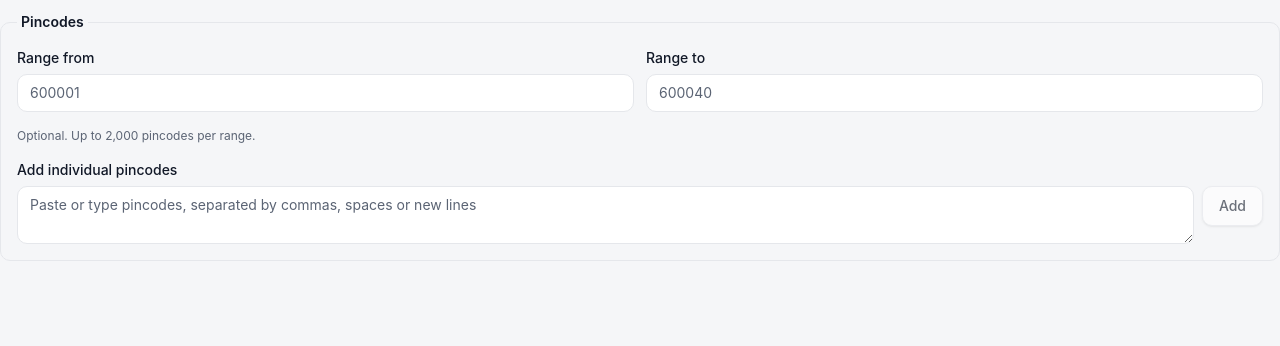
Test: pincode editor › pasted pincodes become chips; invalid ones are reported; one owned by another zone is flagged with its name
The width and height of the screenshot is (1280, 346).
Type "600001, 600002 600003 12ab" into the text box labelled "Add individual pincodes".
click(605, 215); type("600001, 600002 600003 12ab")  # box [17,186,1194,244]
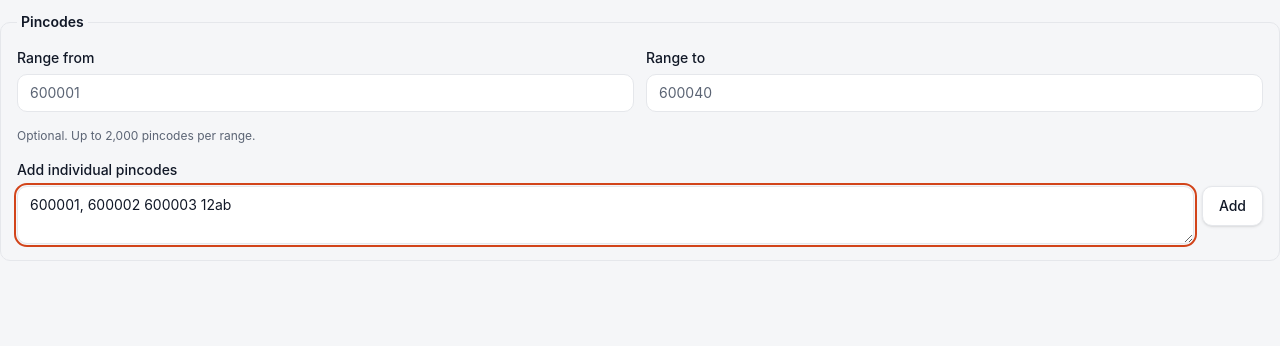
Click the button "Add".
click(1232, 206)  # box [1202,186,1263,226]
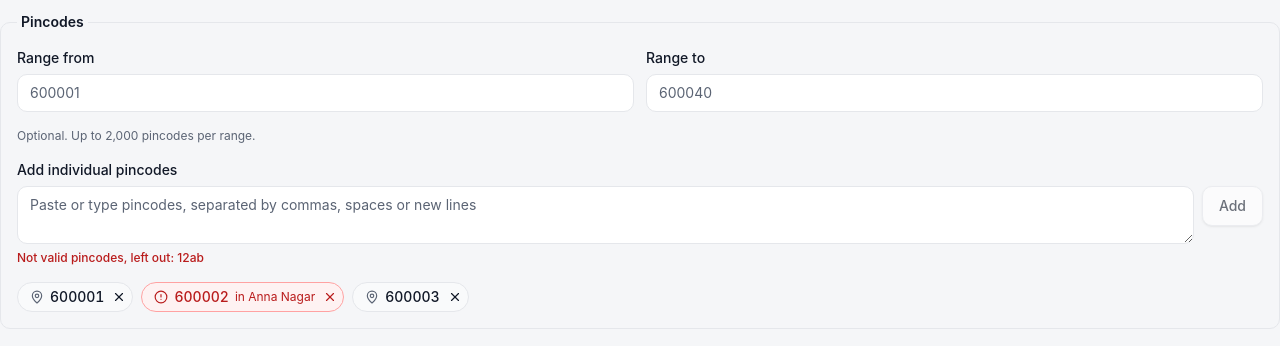
Expected: the number of list items is 3, [17,282,133,312]; [141,282,344,312]; [352,282,469,312]
Expected: the text "Not valid pincodes, left out: 12ab" is shown, [17,250,204,265]
Expected: the text "in Anna Nagar" is shown, [235,289,315,305]
Click the button named "Remove 600002".
click(330, 297)  # box [321,288,339,306]
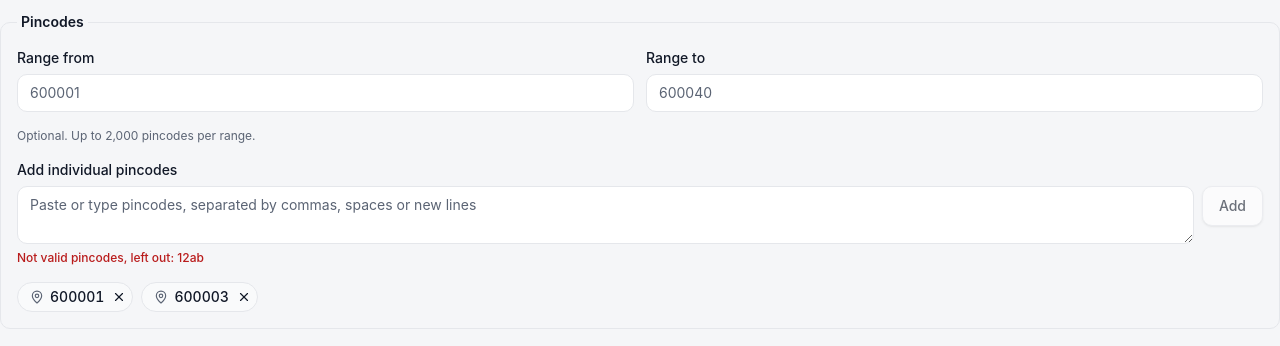
Expected: the number of list items is 2, [17,282,133,312]; [141,282,258,312]
